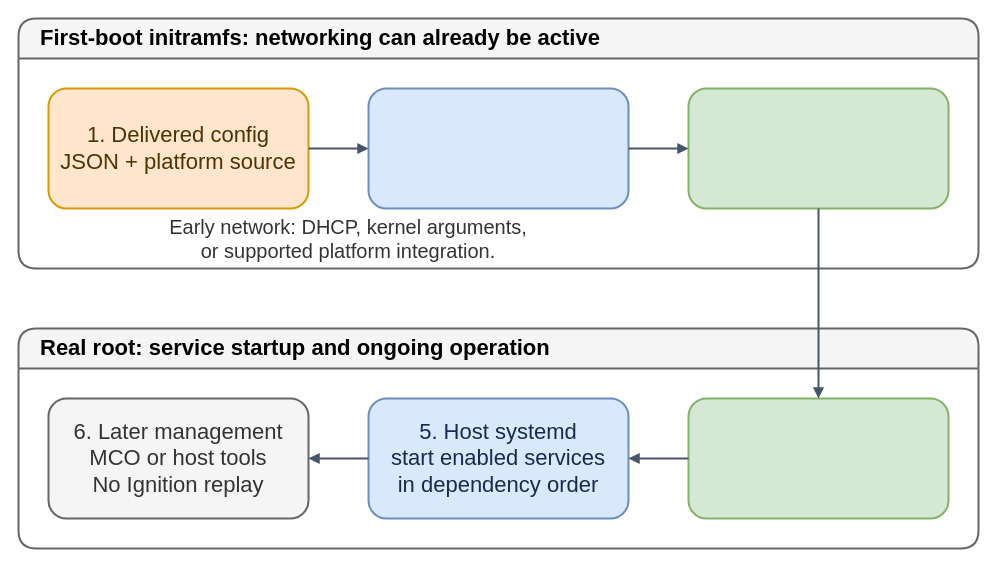
Image size: 996x566. Some labels were removed from this diagram. Each missing label, with the centre of its shape:
"2. Ignition retrieves validate / merge fetch remote resources" belongs at (x=498, y=148).
"3. Provision target storage / files / users systemd unit files" belongs at (x=818, y=148).
"4. switch_root leave initramfs enter installed system" belongs at (x=818, y=458).
